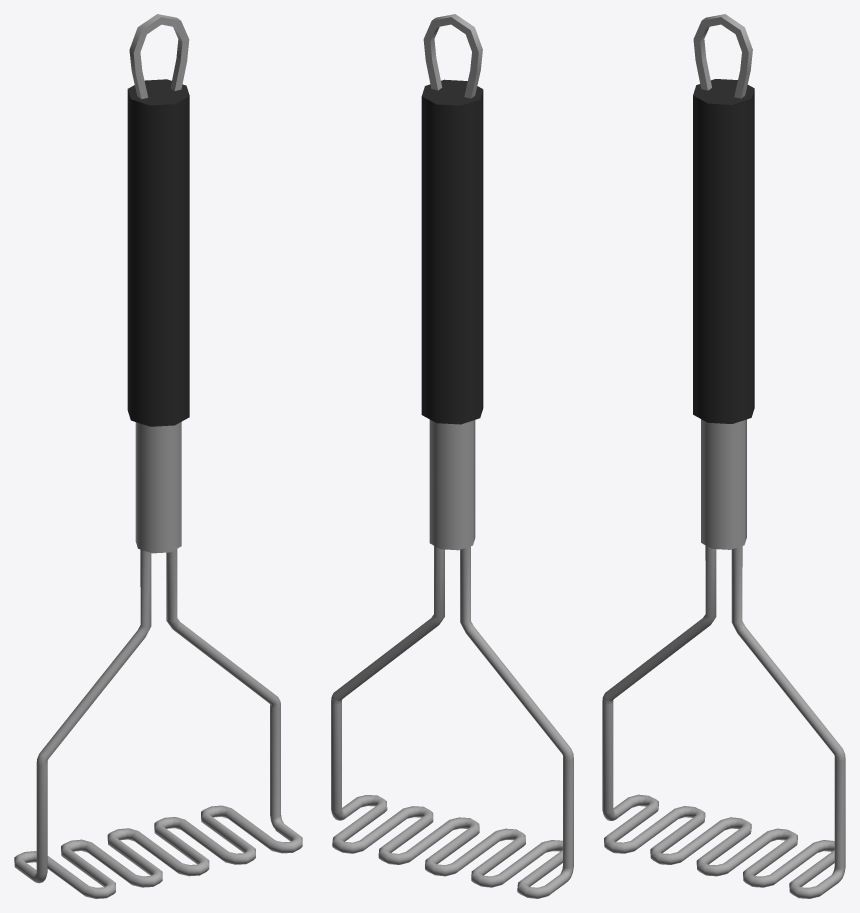
Rendered from PotatoMasher_01.fbx.
3 views of the same model, side by side, from view 1: azimuth 30°, elevation 25°; view 2: azimuth 150°, elevation 25°; view 3: azimuth 330°, elevation 25° (orthographic).
Visible parts, largest first — view 1: PotatoMasher_01; view 2: PotatoMasher_01; view 3: PotatoMasher_01.
Boxes of the visible parts, bbox=[...] form: PotatoMasher_01: bbox=[14, 14, 302, 898]; PotatoMasher_01: bbox=[331, 14, 573, 898]; PotatoMasher_01: bbox=[602, 14, 845, 898].
Bounding box in the file's own units: 0.0854 × 0.2832 × 0.0375.
